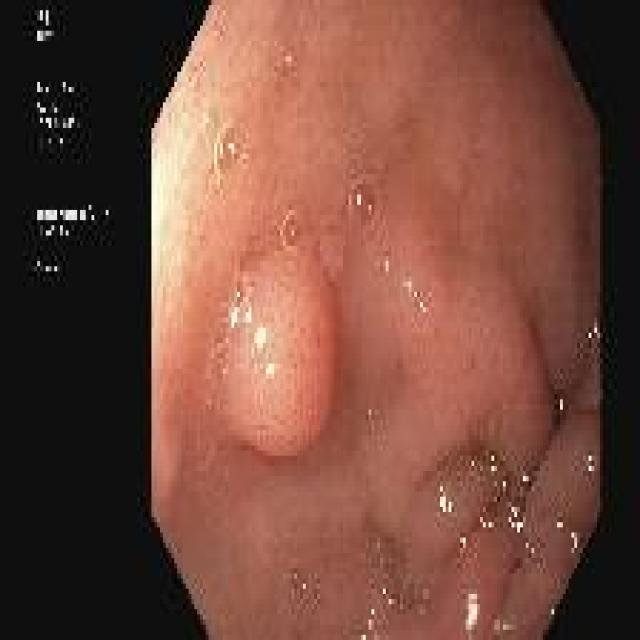Polyps: (222, 246, 336, 457)
